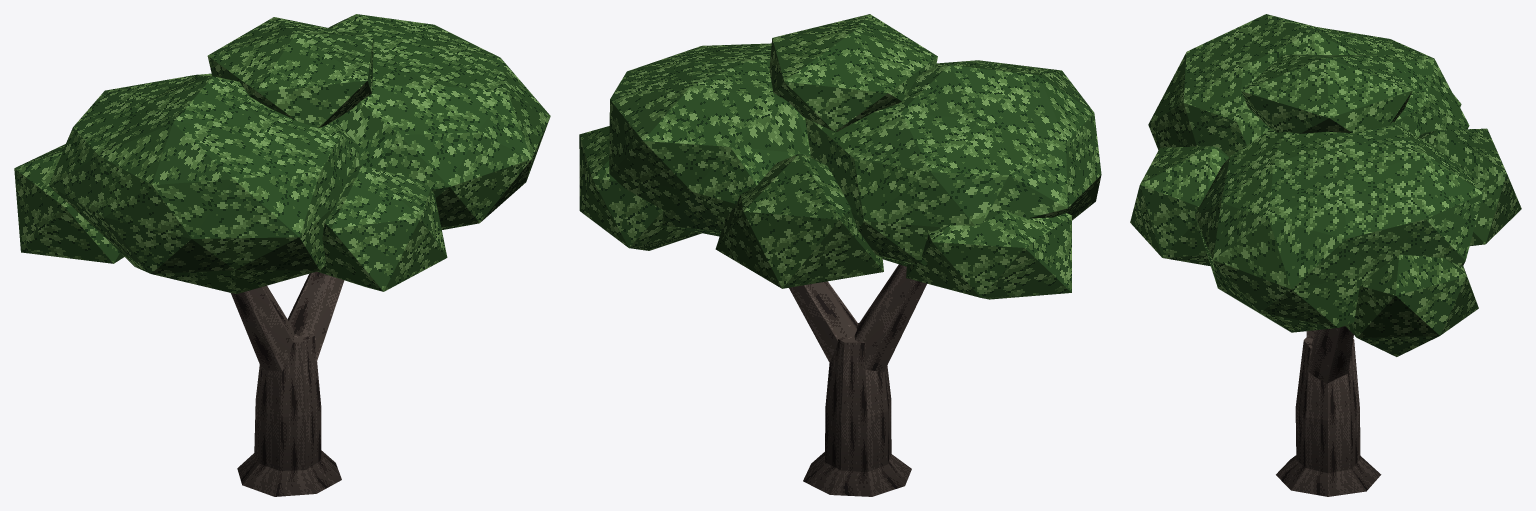
Rendered from tree_oak_b.glb.
3 renders of one model, left to right at view 1: azimuth 30°, elevation 25°; view 2: azimuth 150°, elevation 25°; view 3: azimuth 270°, elevation 25°, orthographic. The views are drawn at different scales.
Visible parts, largest first — view 1: tree_oak_b; view 2: tree_oak_b; view 3: tree_oak_b.
Boxes of the visible parts, <box> form: tree_oak_b: <box>14,14,550,496</box>; tree_oak_b: <box>579,14,1101,496</box>; tree_oak_b: <box>1130,14,1521,496</box>.
Size of the model in its own units: 6.77 by 5.9 by 4.99.
2 materials, 2 textured.
